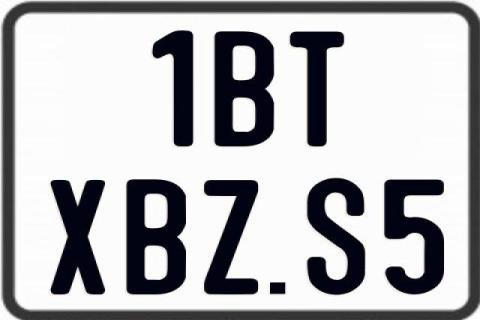0: (383, 179, 445, 297), (151, 28, 198, 148)
B: (213, 31, 276, 149), (125, 177, 186, 295)
S: (308, 176, 371, 294)
T: (290, 30, 349, 148)
X: (49, 178, 105, 294)
Z: (204, 180, 261, 296)
